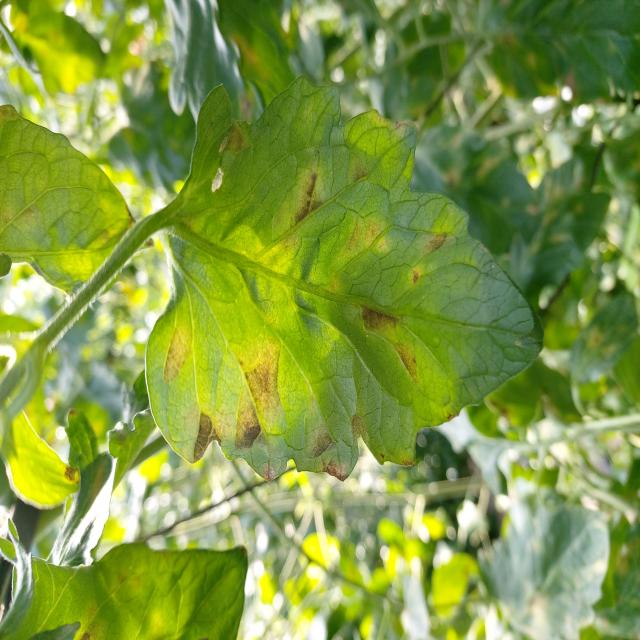Leaf Mold: (144, 79, 544, 488)
